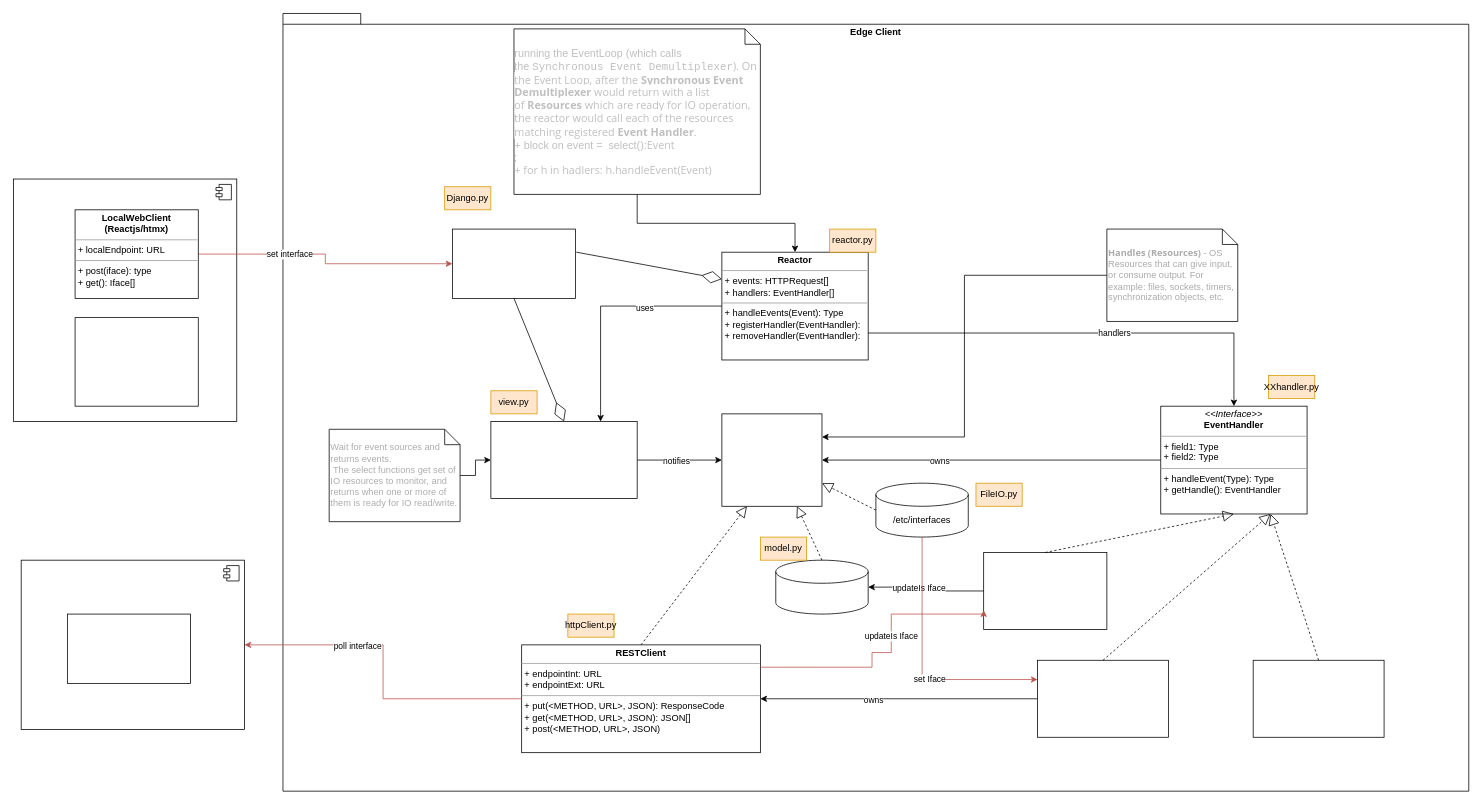
This 1482x805 diagram has some shape labels left out. The shapes that lost their labels are listed below. From the top down, each one's box as (x1, y1, x2, y2) in pixels, then its label:
(452, 228, 576, 298): RESTServer + ifaces: Iface[] + edit(Iface): type + update(Iface)
(74, 317, 198, 406): curl + localEndpoint: URL + post(iface): type + get(): Iface[]
(490, 421, 637, 499): EventDemux + field: Type<METHOD,URL> + select(): HTTPRequest
(721, 413, 822, 506): <<Interface>> Handle + socket + mutex + timer + DB
(775, 559, 868, 614): Submodels
(983, 552, 1107, 629): ExternalEventHandler + aasServerUrl: Type + method(): Type
(67, 613, 191, 683): AASRestServer + field: Type + method(): Type
(1037, 660, 1168, 737): LocalWebEventHandler + localDnsUrl: Type + method(): Type
(1252, 660, 1384, 737): EtcFileEventHandler + filename: Type + method(): Type
